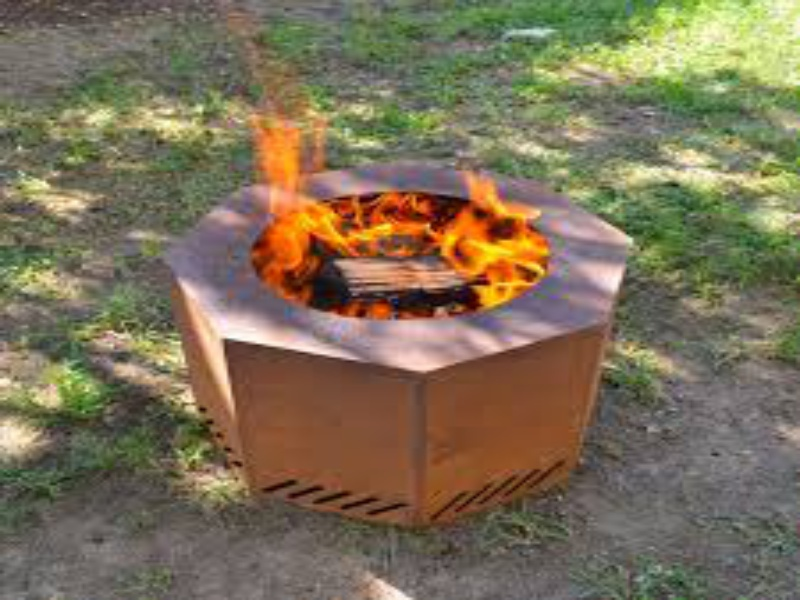fire: (250, 123, 339, 290), (463, 198, 544, 299), (348, 203, 462, 254)
